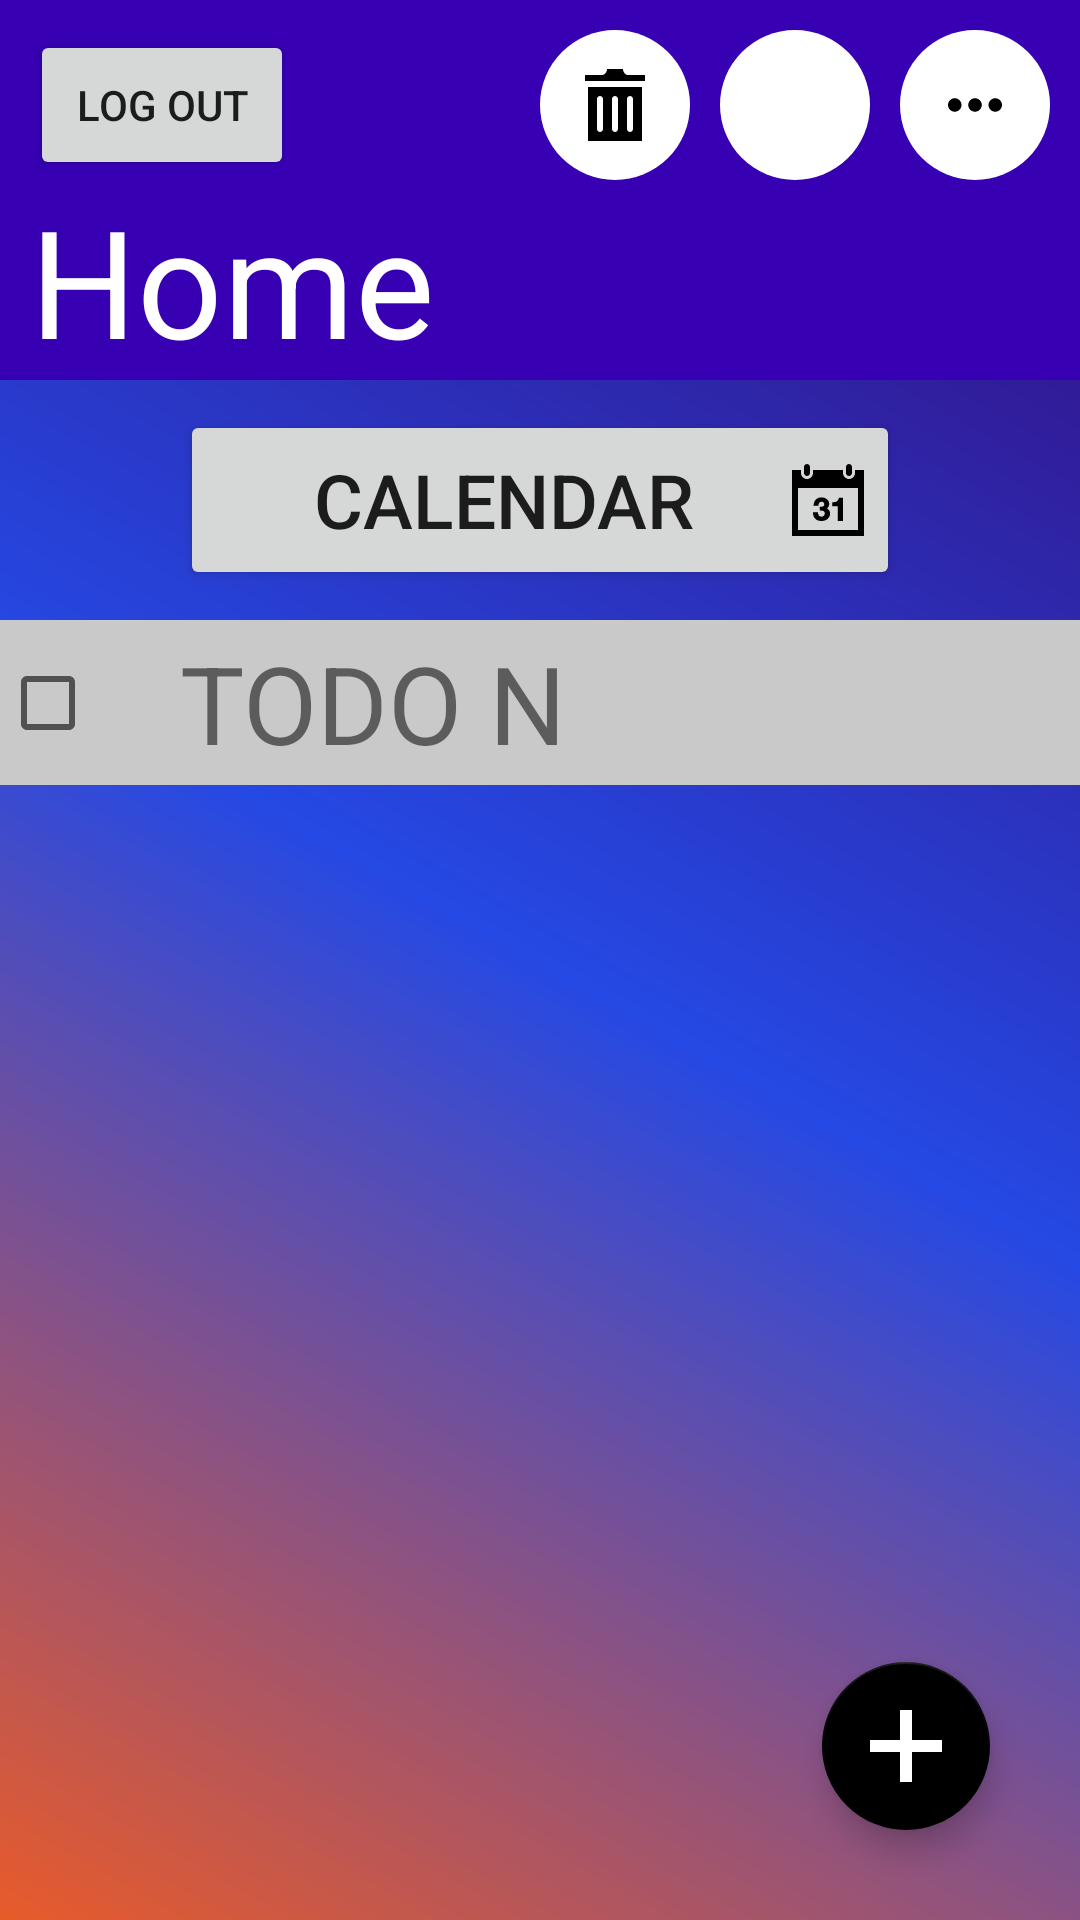

Icons on this 1080 x 1920 Android screen, each with the point to tap as (x,y):
Action Menu: (975,105)
Create New Favorite: (906,1746)
Delete Selection Mode: (615,105)
